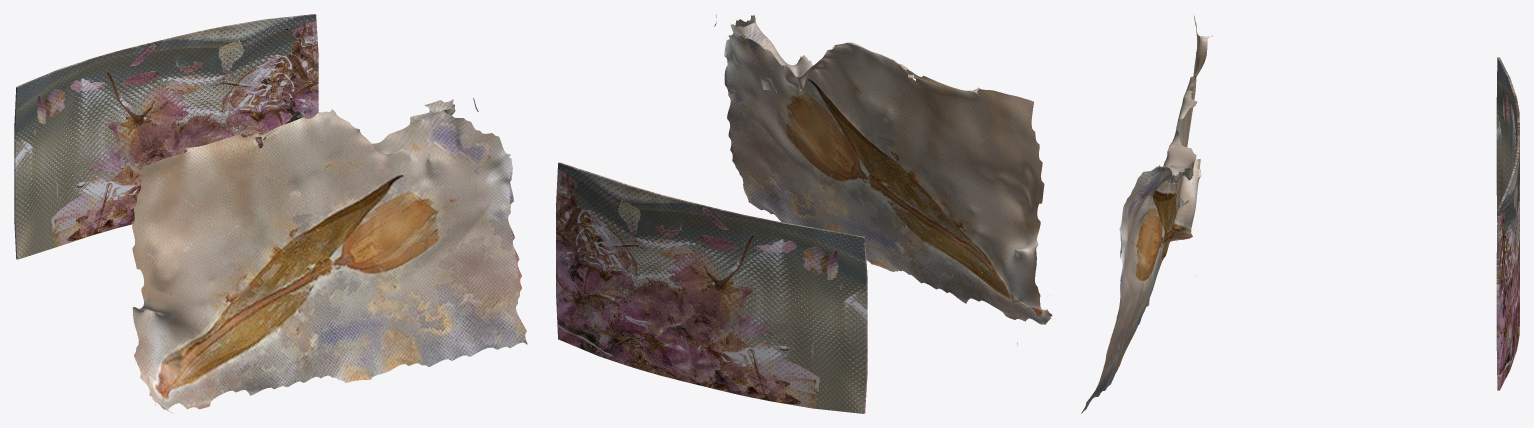
File: wiese_v.glb
The picture shows the model from 3 angles, left to right: view 1: azimuth 30°, elevation 25°; view 2: azimuth 150°, elevation 25°; view 3: azimuth 270°, elevation 25°; orthographic projection. The views are drawn at different scales.
Parts seen in each view (by area): view 1: vt_blume_low_02, videotarget; view 2: vt_blume_low_02, videotarget; view 3: vt_blume_low_02, videotarget.
Part boxes in pixels (x1,y1,x2,y2): vt_blume_low_02: (132, 98, 527, 413); videotarget: (14, 14, 318, 259); vt_blume_low_02: (714, 14, 1052, 345); videotarget: (556, 162, 867, 413); vt_blume_low_02: (1081, 15, 1212, 413); videotarget: (1496, 57, 1519, 390).
Size of the model in its own units: 3.04 by 2.12 by 3.16.
Materials: 2 (2 with a texture image).
